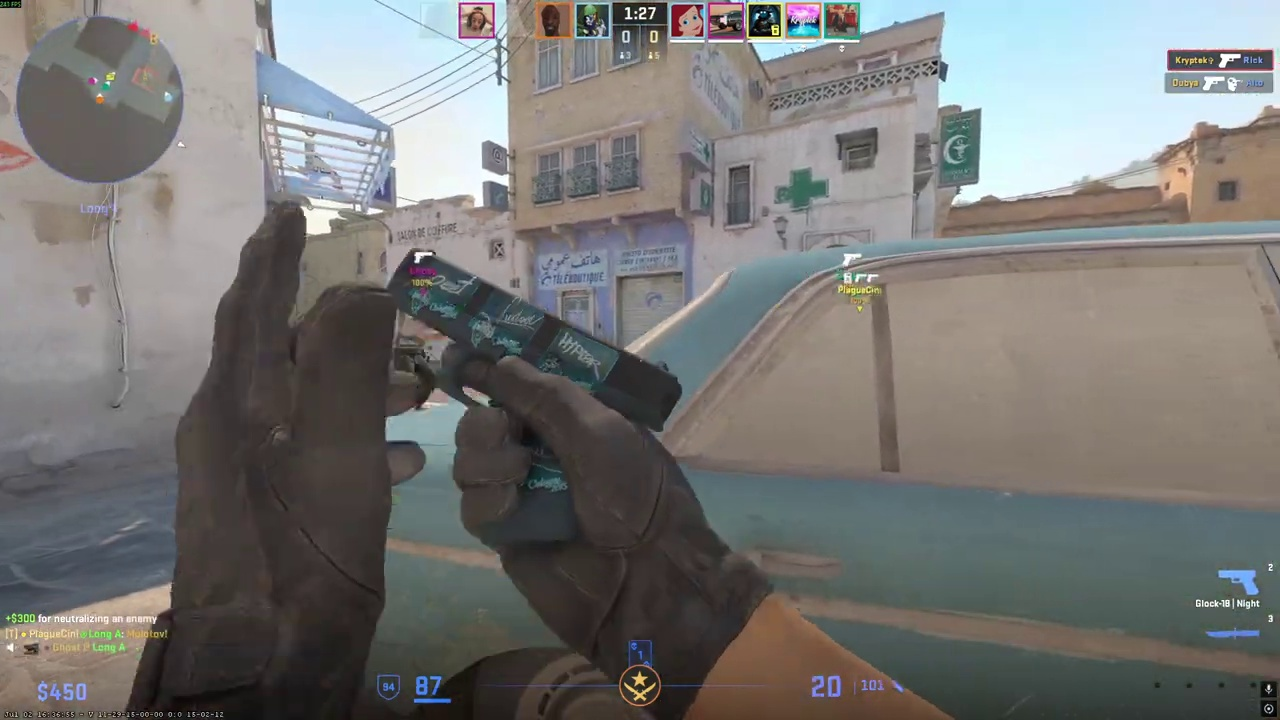Terrorist: (410, 347, 439, 410)
